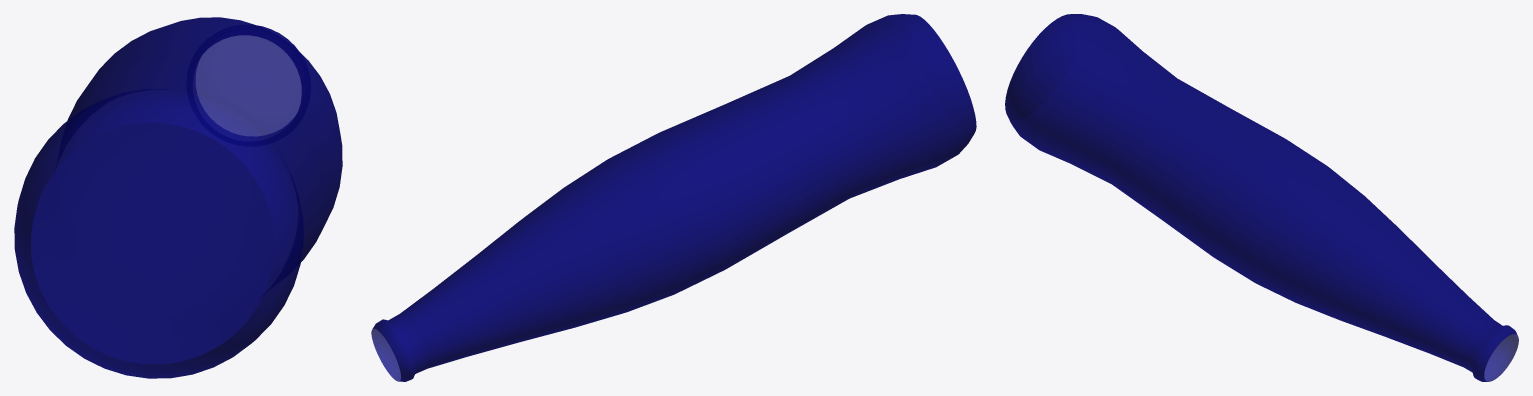
Rendered from glass1.fbx.
The picture shows the model from 3 angles, left to right: view 1: azimuth 30°, elevation 25°; view 2: azimuth 150°, elevation 25°; view 3: azimuth 270°, elevation 25°; orthographic projection. The views are drawn at different scales.
Parts seen in each view (by area): view 1: Bottle1; view 2: Bottle1; view 3: Bottle1.
Boxes of the visible parts, bbox=[...] form: Bottle1: bbox=[14, 17, 342, 378]; Bottle1: bbox=[371, 14, 976, 381]; Bottle1: bbox=[1005, 14, 1518, 381].
Bounding box in the file's own units: 20.5 × 13.49 × 26.65.
